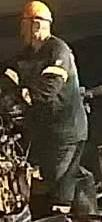helmet: (14, 0, 53, 23)
vest: (17, 38, 89, 146)
